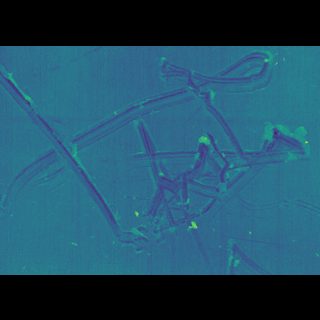Loch: (0, 82, 312, 243)
